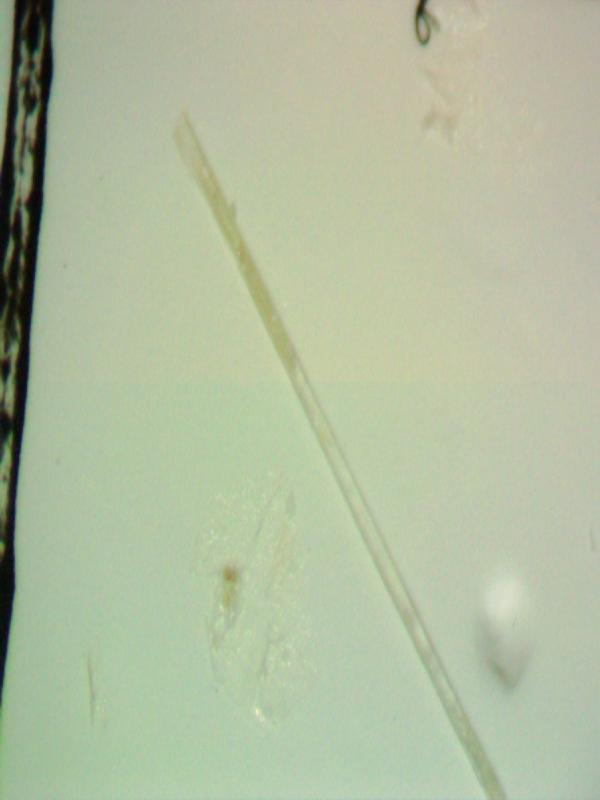microplastic: (170, 104, 508, 798)
